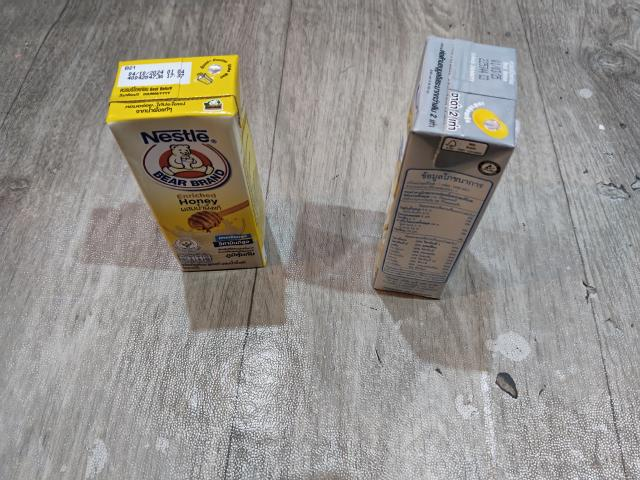drink_box: (361, 29, 532, 309), (105, 57, 273, 276)
